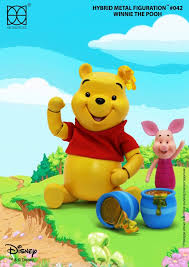Winnie: (55, 59, 139, 155)
